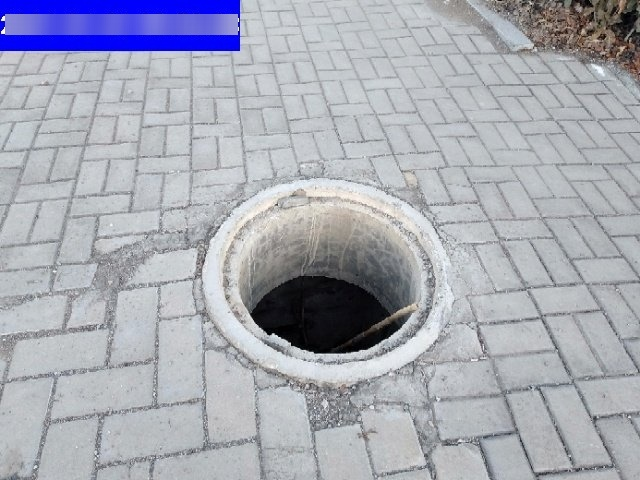well: (198, 174, 454, 382)
